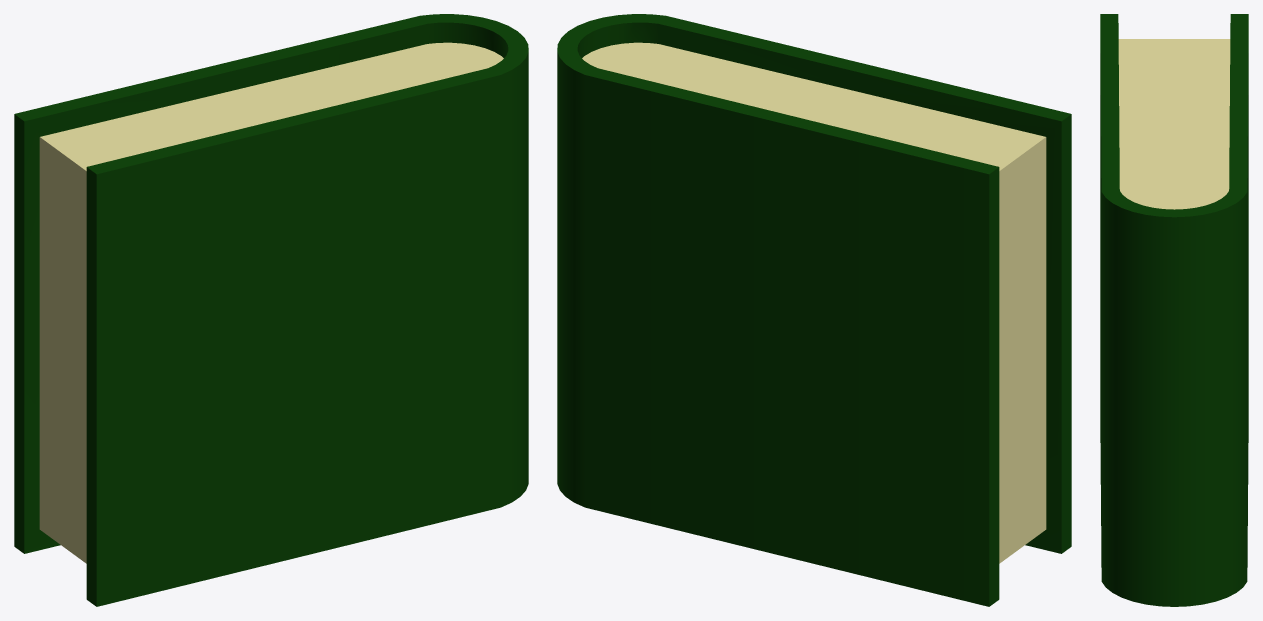
Rendered from book_green.glb.
3 views of the same model, side by side, from view 1: azimuth 30°, elevation 25°; view 2: azimuth 150°, elevation 25°; view 3: azimuth 270°, elevation 25° (orthographic). The views are drawn at different scales.
Visible parts, largest first — view 1: book_green; view 2: book_green; view 3: book_green.
Boxes of the visible parts, <box> form: book_green: <box>14,14,528,606</box>; book_green: <box>557,14,1071,606</box>; book_green: <box>1100,14,1248,606</box>.
Size of the model in its own units: 0.5181 by 0.4632 by 0.1601.
